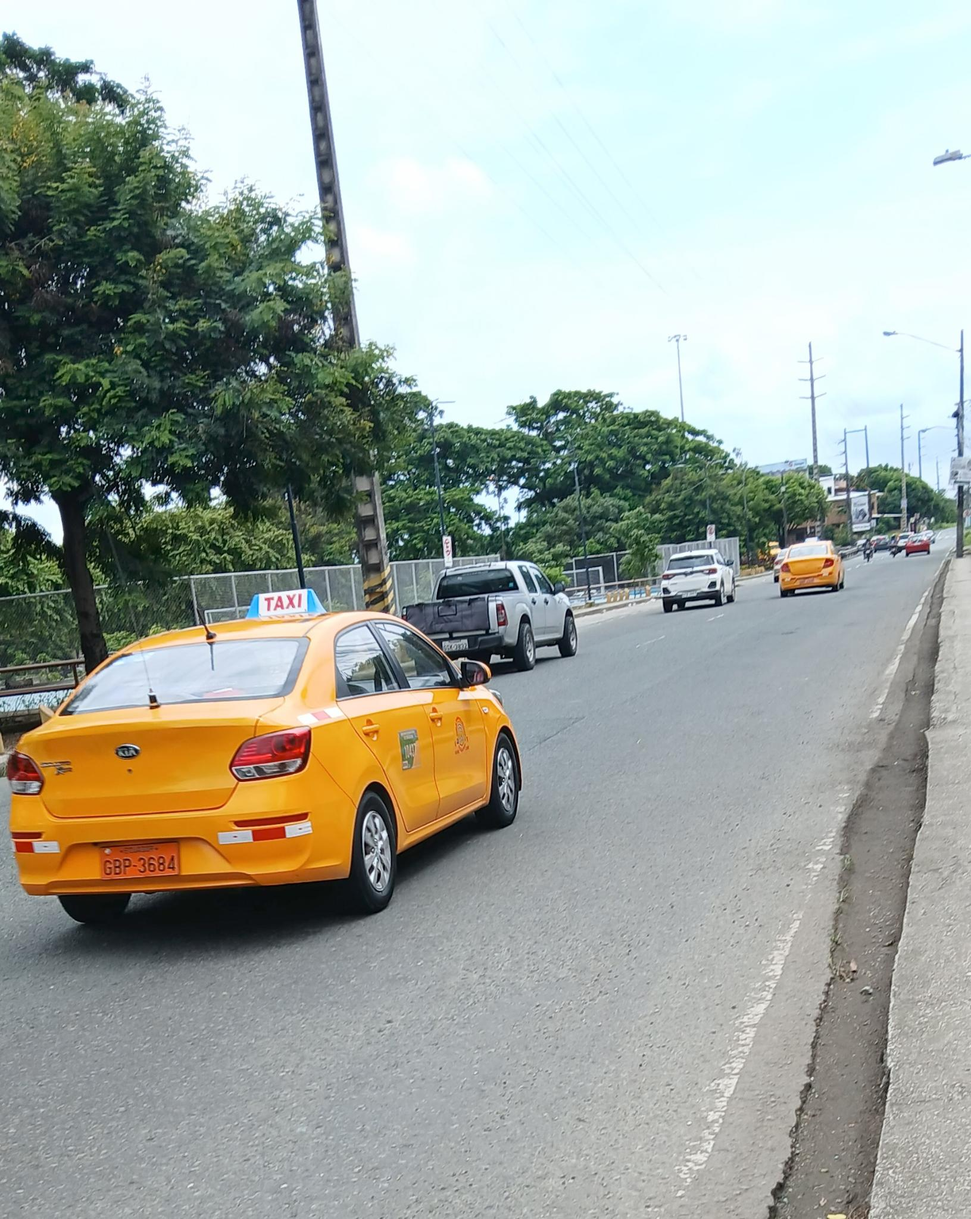license_plate: (95, 843, 180, 879), (441, 638, 468, 651), (678, 591, 696, 598), (796, 578, 817, 584)
